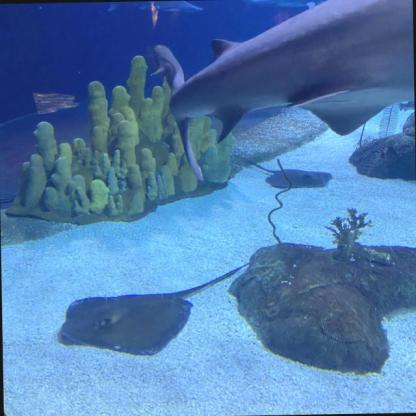shark: (160, 0, 416, 185), (105, 0, 210, 16)
stingray: (54, 286, 192, 362), (263, 167, 340, 192)
